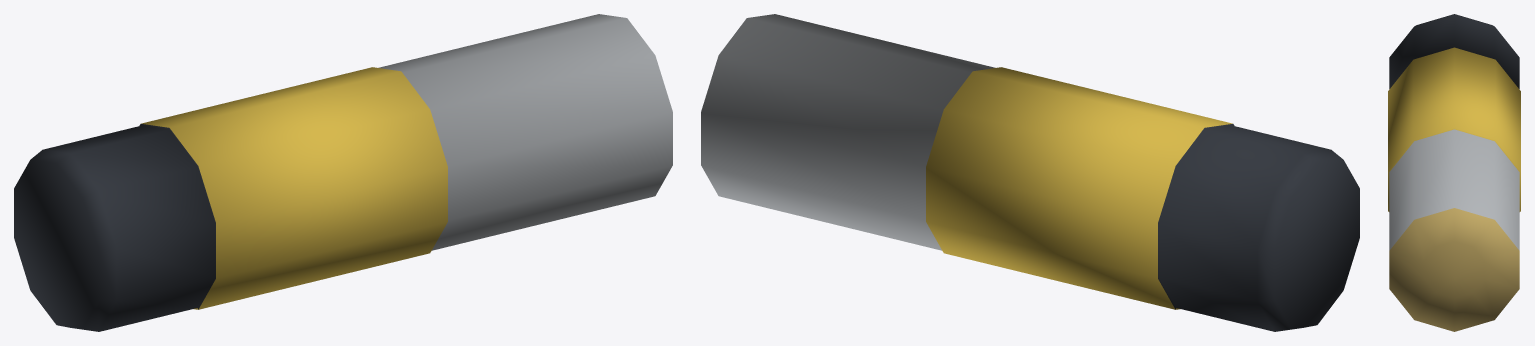
File: battery_aa.glb
3 views of the same model, side by side, from view 1: azimuth 30°, elevation 25°; view 2: azimuth 150°, elevation 25°; view 3: azimuth 270°, elevation 25° (orthographic). The views are drawn at different scales.
Visible parts, largest first — view 1: battery_aa; view 2: battery_aa; view 3: battery_aa.
Part boxes in pixels (x1,y1,x2,y2): battery_aa: (14, 14, 672, 331); battery_aa: (701, 14, 1359, 331); battery_aa: (1388, 14, 1520, 331).
Size of the model in its own units: 0.05 by 0.0143 by 0.0136.
